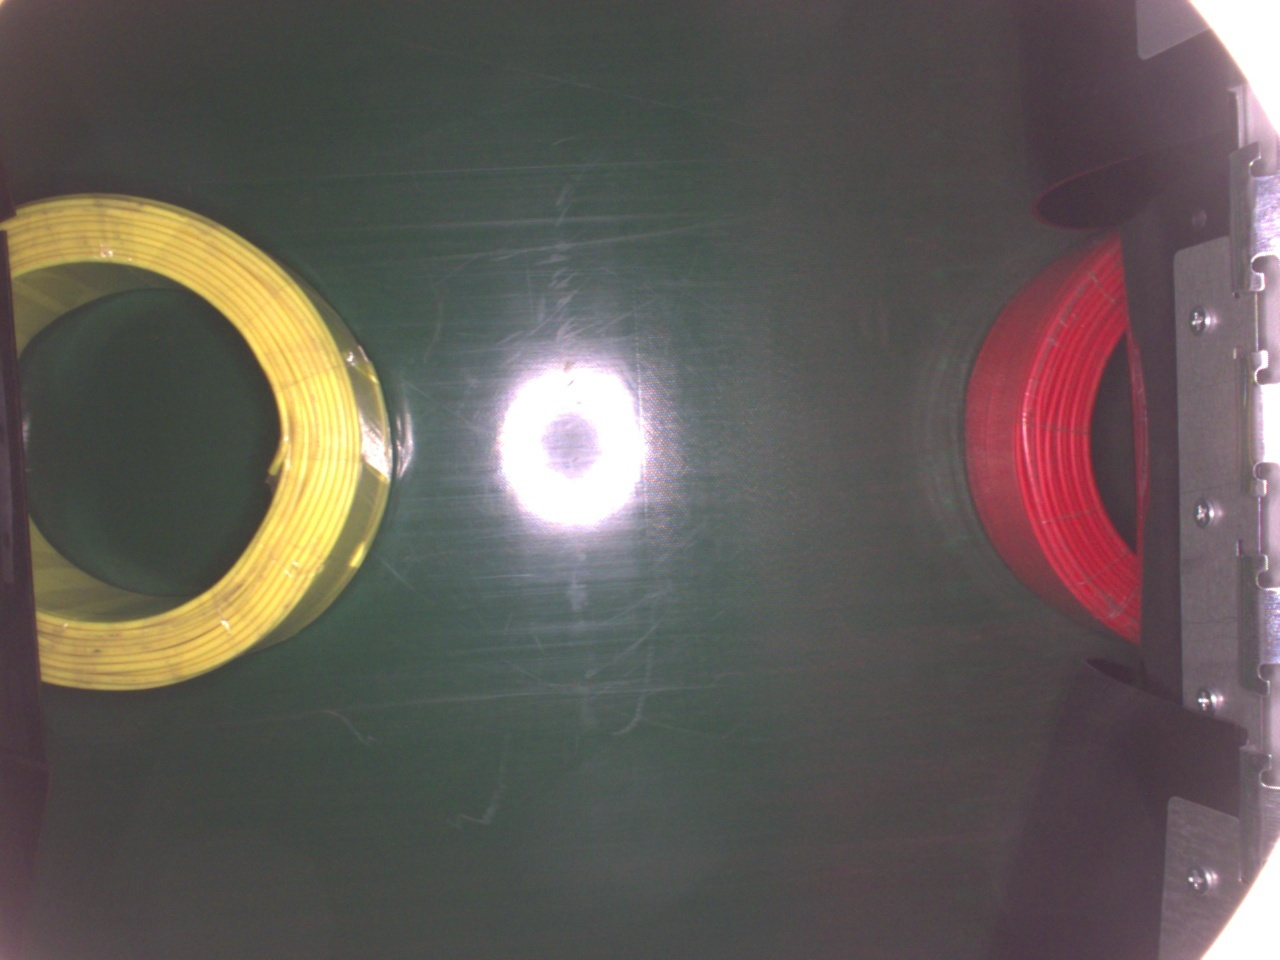red: (958, 233, 1143, 649)
yellow: (4, 189, 395, 682)
